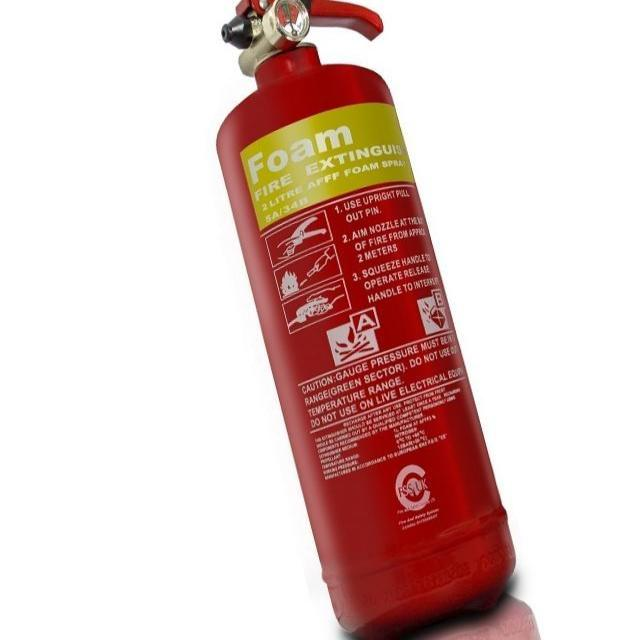fire_extinguisher: (203, 0, 525, 638)
